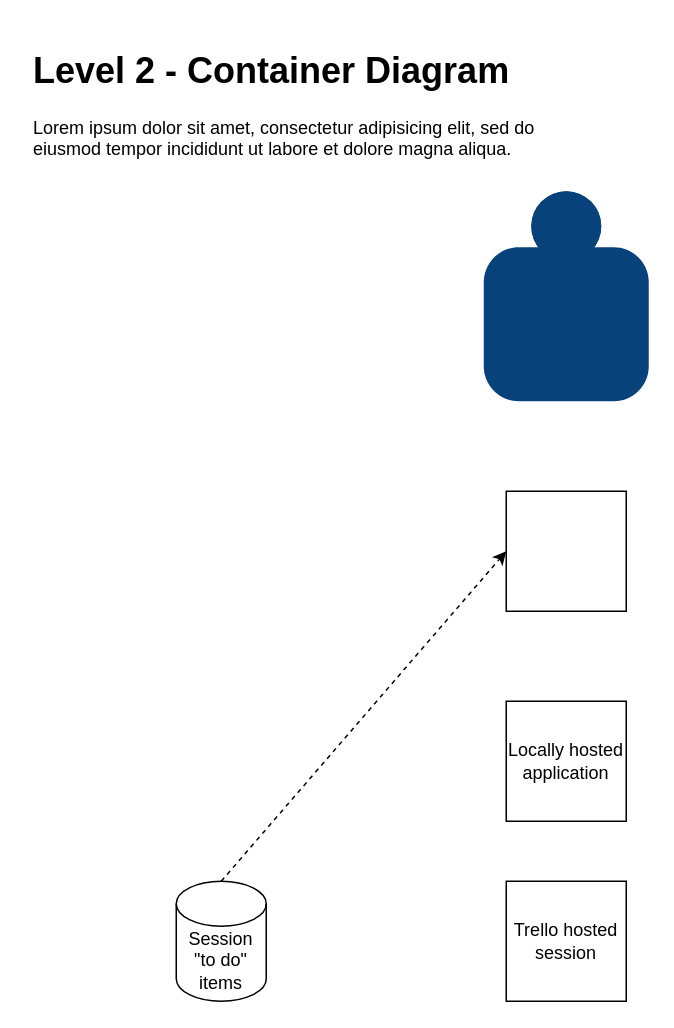
The diagram is 674 pixels wide and 1028 high, and some of its shapes have lost their labels. The shapes that lost their labels are listed below. From the top down, each one's centre as x and y in pixels, then its label:
(x=565, y=295): User [Person] operating on local machine
(x=565, y=550): HTML interface
